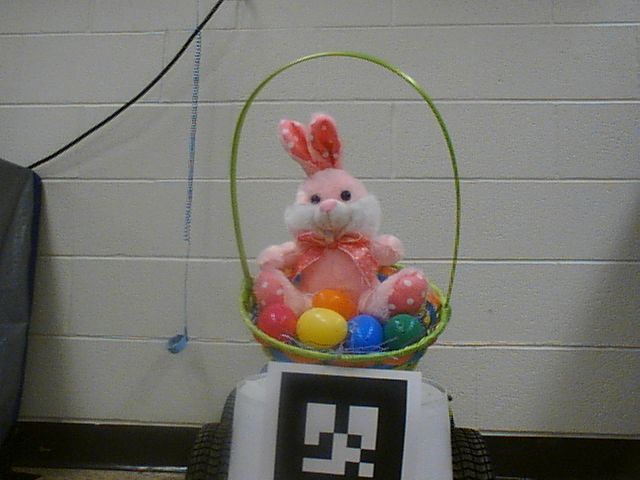bunny: (229, 53, 470, 376)
